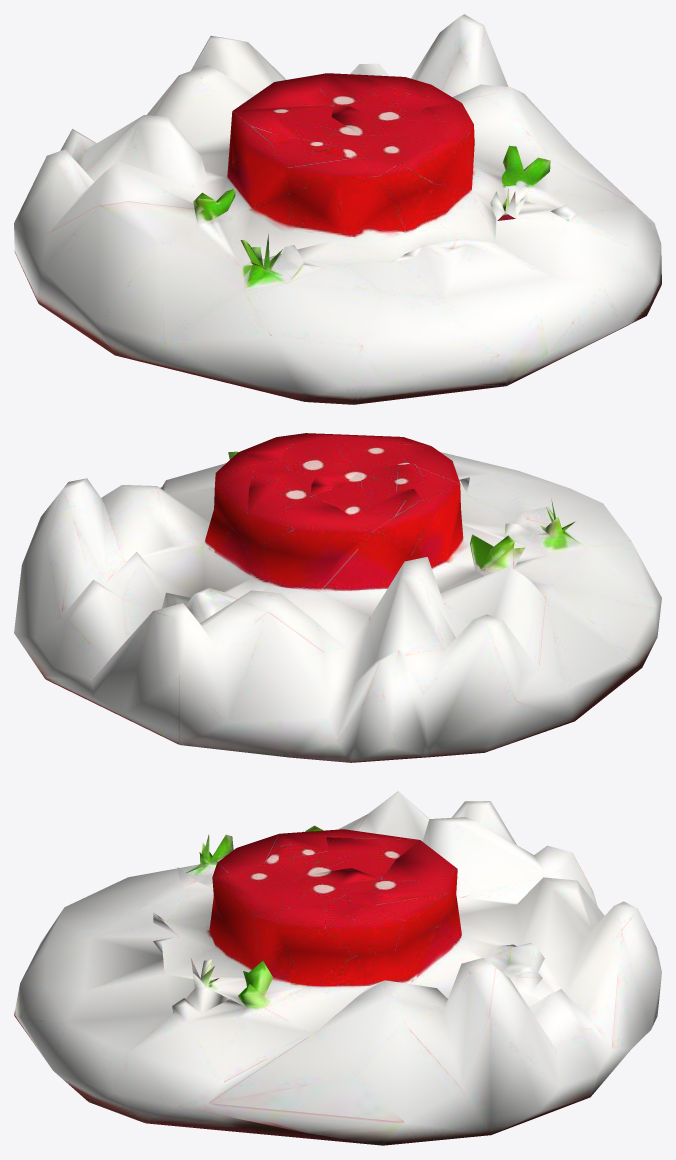
The model's file is patty.glb.
3 views of the same model, one above another, from view 1: azimuth 30°, elevation 25°; view 2: azimuth 150°, elevation 25°; view 3: azimuth 270°, elevation 25° (orthographic).
Size of the model in its own units: 1.81 by 0.4862 by 1.9.
Materials: 1 (1 with a texture image).
